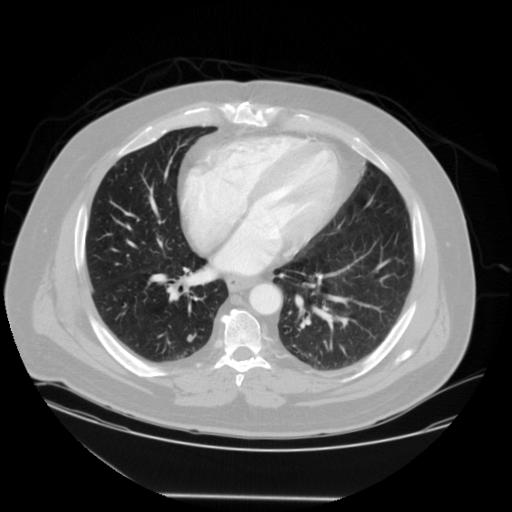nodule: (183, 332, 195, 344)
